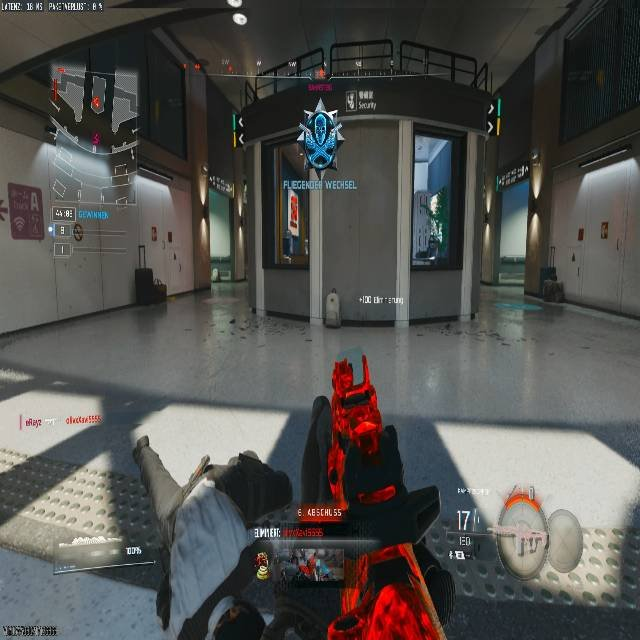player: (253, 355, 474, 638), (492, 479, 637, 606), (295, 95, 346, 179)
